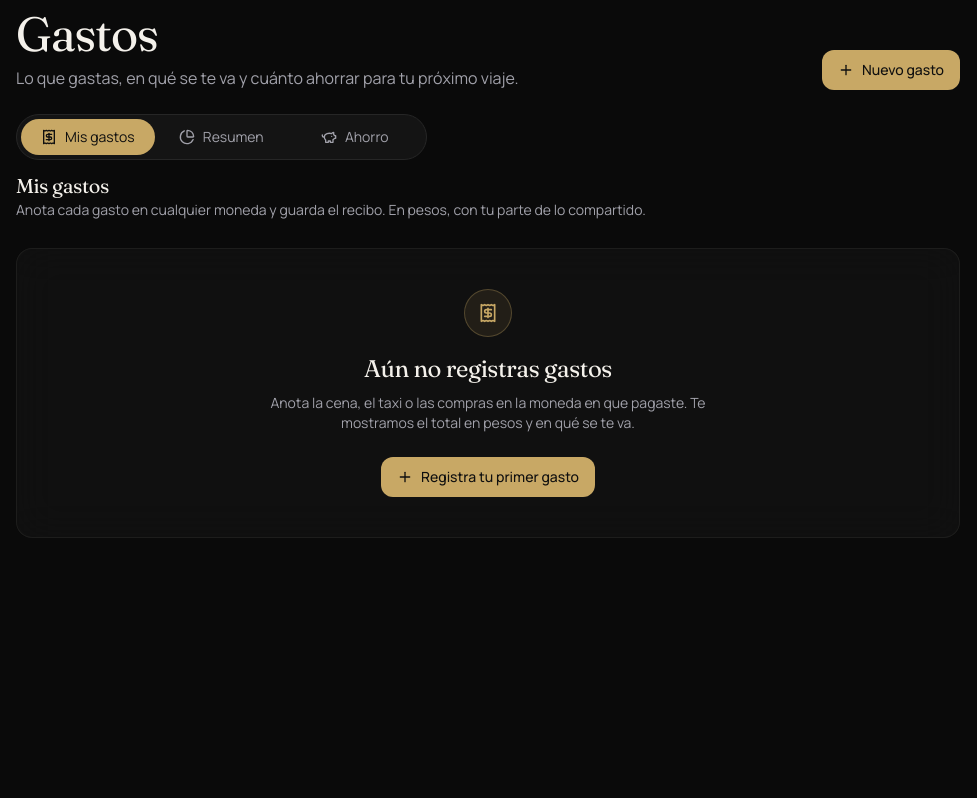
Test case: Gastos: tres pestañas que se entienden en 3 segundos › sin gastos: estado vacío con 'Registra tu primer gasto' que abre el formulario
Check: the text "Aún no registras gastos" is shown, box [364, 354, 612, 383]
Click the button "Registra tu primer gasto": click(488, 477) [381, 457, 595, 497]
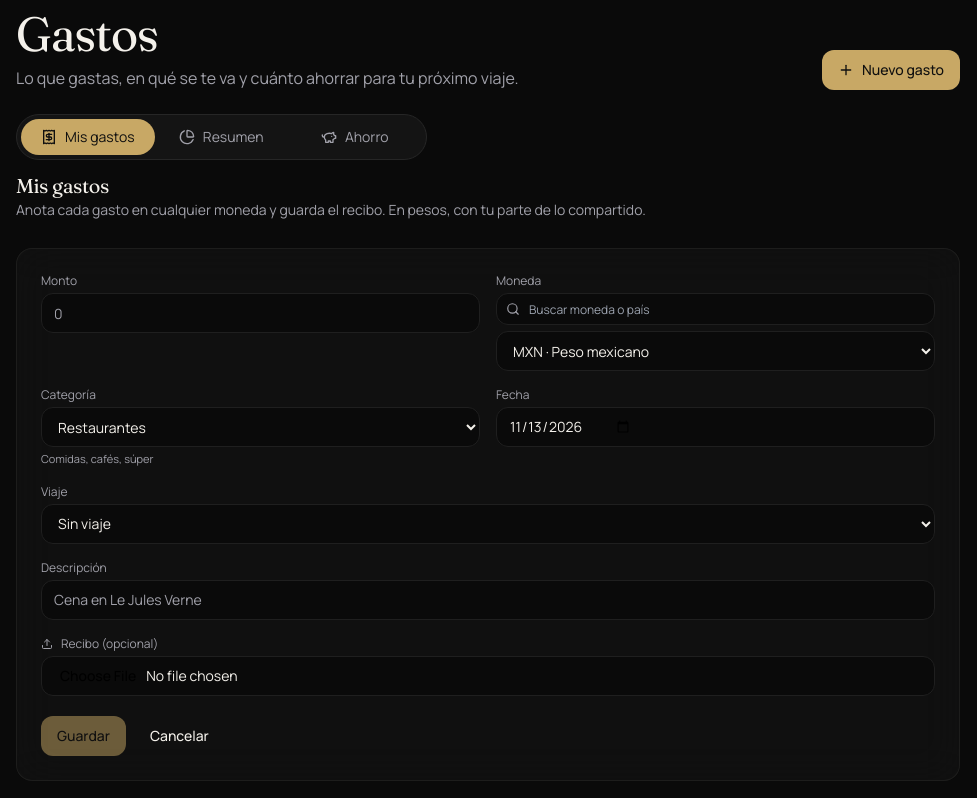
Check: the number field labelled "Monto" is shown, box [41, 293, 480, 333]
